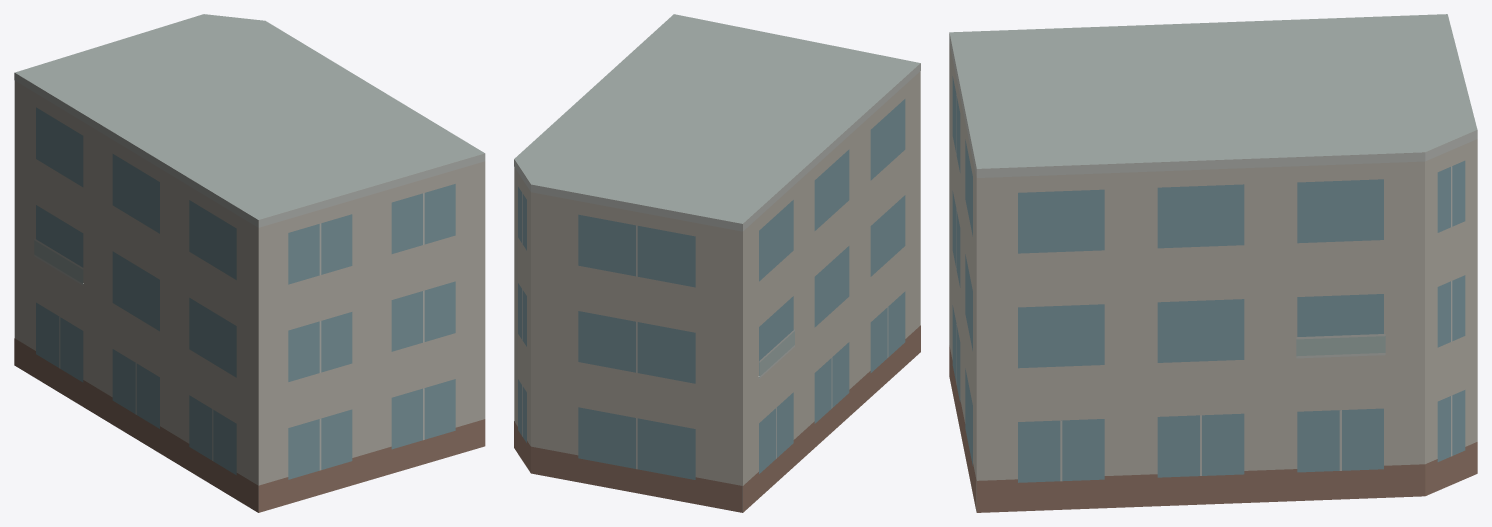
The model's file is survey-upis-32663107.glb.
3 views of the same model, side by side, from view 1: azimuth 30°, elevation 25°; view 2: azimuth 150°, elevation 25°; view 3: azimuth 270°, elevation 25° (orthographic). The views are drawn at different scales.
Parts seen in each view (by area): view 1: survey-upis-32663107.tmp; view 2: survey-upis-32663107.tmp; view 3: survey-upis-32663107.tmp.
Part boxes in pixels (x1,y1,x2,y2): survey-upis-32663107.tmp: (14, 14, 485, 512); survey-upis-32663107.tmp: (514, 14, 920, 512); survey-upis-32663107.tmp: (949, 14, 1477, 512).
Bounding box in the file's own units: 8.85 × 9.15 × 12.74.
